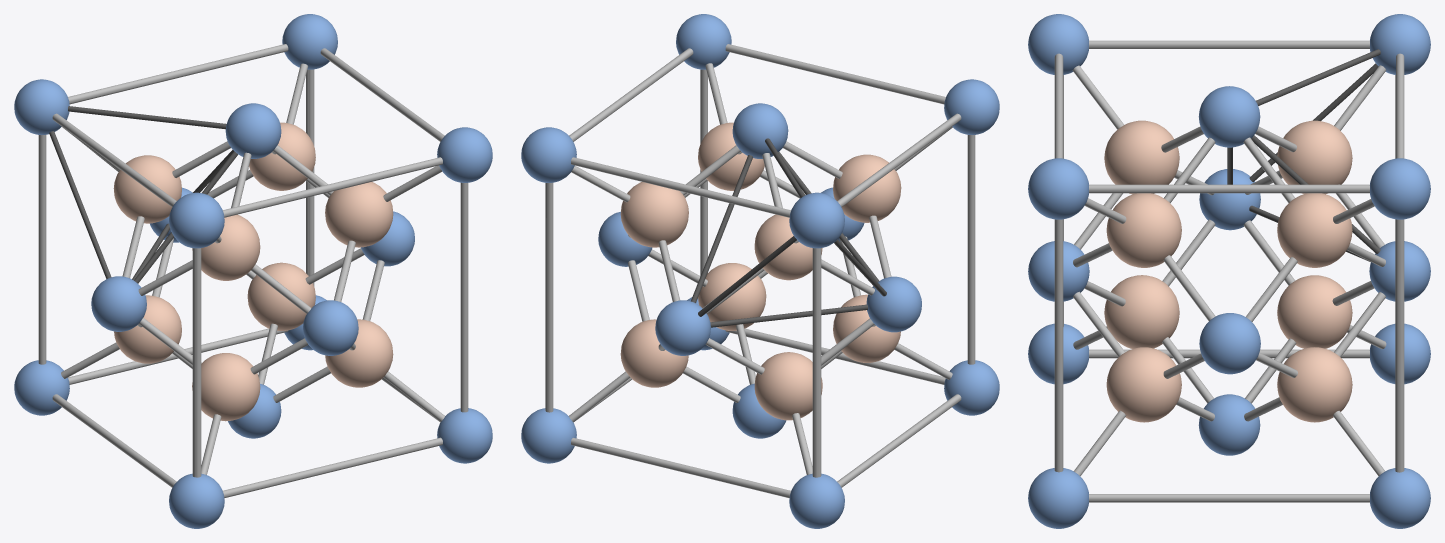
The model's file is index.gltf.
The picture shows the model from 3 angles, left to right: view 1: azimuth 30°, elevation 25°; view 2: azimuth 150°, elevation 25°; view 3: azimuth 270°, elevation 25°; orthographic projection. The views are drawn at different scales.
Visible parts, largest first — view 1: node_lan029_-40054, node_lan026_-40048, node_lan028_-40052, node_lan025_-40046, node_lan027_-40050, node_lan030_-40056, node_lan031_-40058, node_lan024_-40044, node_lv039_-40082, node_lv031_-40066, node_lv035_-40074, node_lv040_-40084 (+25 smaller); view 2: node_lan024_-40044, node_lan031_-40058, node_lan030_-40056, node_lan028_-40052, node_lan027_-40050, node_lan025_-40046, node_lv037_-40078, node_lv038_-40080, node_lv028_-40060, node_lv033_-40070, node_lv036_-40076, node_lan029_-40054 (+24 smaller); view 3: node_lan027_-40050, node_lan028_-40052, node_lan029_-40054, node_lan024_-40044, node_lan031_-40058, node_lan026_-40048, node_lan030_-40056, node_lan025_-40046, node_lv030_-40064, node_lv028_-40060, node_lv035_-40074, node_lv032_-40068 (+38 smaller).
Boxes of the visible parts, x1=… form: node_lan029_-40054: x1=325, y1=182, x2=393, y2=247; node_lan026_-40048: x1=192, y1=353, x2=260, y2=421; node_lan028_-40052: x1=247, y1=262, x2=315, y2=330; node_lan025_-40046: x1=113, y1=155, x2=181, y2=223; node_lan027_-40050: x1=325, y1=319, x2=393, y2=387; node_lan030_-40056: x1=192, y1=214, x2=260, y2=280; node_lan031_-40058: x1=114, y1=295, x2=181, y2=363; node_lan024_-40044: x1=249, y1=122, x2=315, y2=190; node_lv039_-40082: x1=169, y1=192, x2=224, y2=248; node_lv031_-40066: x1=303, y1=300, x2=358, y2=355; node_lv035_-40074: x1=437, y1=127, x2=492, y2=182; node_lv040_-40084: x1=169, y1=473, x2=224, y2=528; node_lan024_-40044: x1=620, y1=182, x2=688, y2=247; node_lan031_-40058: x1=754, y1=352, x2=822, y2=420; node_lan030_-40056: x1=833, y1=154, x2=901, y2=222; node_lan028_-40052: x1=620, y1=319, x2=688, y2=387; node_lan027_-40050: x1=698, y1=263, x2=766, y2=330; node_lan025_-40046: x1=754, y1=214, x2=822, y2=280; node_lv037_-40078: x1=789, y1=192, x2=844, y2=248; node_lv038_-40080: x1=789, y1=473, x2=844, y2=528; node_lv028_-40060: x1=521, y1=127, x2=576, y2=182; node_lv033_-40070: x1=655, y1=300, x2=710, y2=355; node_lv036_-40076: x1=521, y1=408, x2=576, y2=463; node_lan029_-40054: x1=698, y1=122, x2=764, y2=190; node_lan027_-40050: x1=1106, y1=347, x2=1181, y2=422; node_lan028_-40052: x1=1277, y1=347, x2=1352, y2=422; node_lan029_-40054: x1=1106, y1=193, x2=1181, y2=267; node_lan024_-40044: x1=1277, y1=193, x2=1352, y2=267; node_lan031_-40058: x1=1277, y1=275, x2=1352, y2=348; node_lan026_-40048: x1=1104, y1=275, x2=1179, y2=348; node_lan030_-40056: x1=1104, y1=120, x2=1179, y2=194; node_lan025_-40046: x1=1277, y1=120, x2=1352, y2=194; node_lv030_-40064: x1=1199, y1=313, x2=1260, y2=374; node_lv028_-40060: x1=1370, y1=158, x2=1430, y2=219; node_lv035_-40074: x1=1028, y1=158, x2=1088, y2=219; node_lv032_-40068: x1=1198, y1=86, x2=1260, y2=147.
Size of the model in its own units: 0.9445 by 0.9442 by 0.9445.
